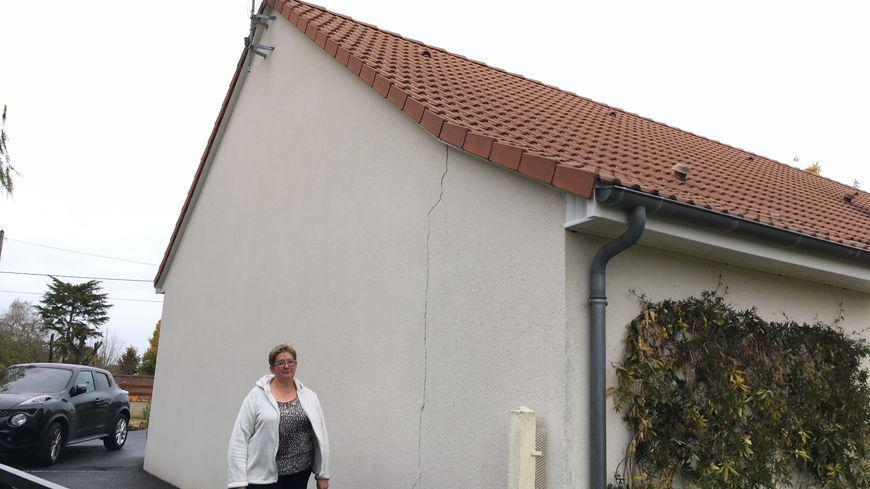crack: (418, 145, 449, 469)
